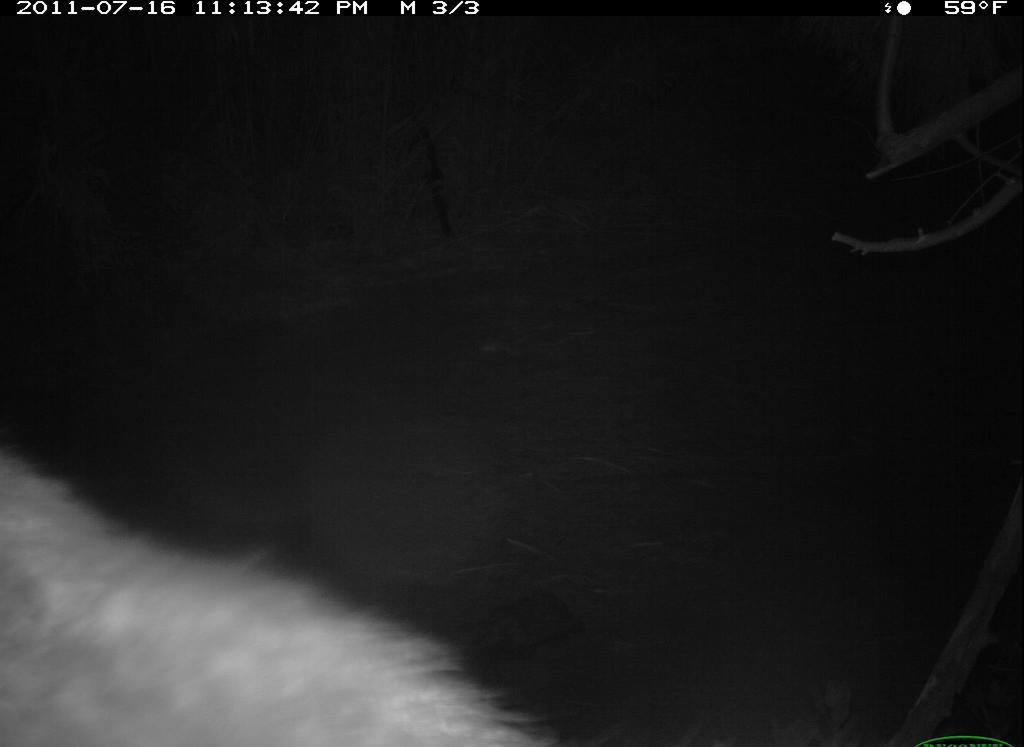raccoon: (3, 442, 574, 747)
